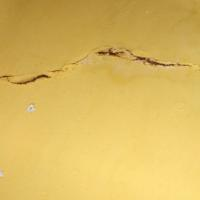crack: (0, 25, 185, 124)
